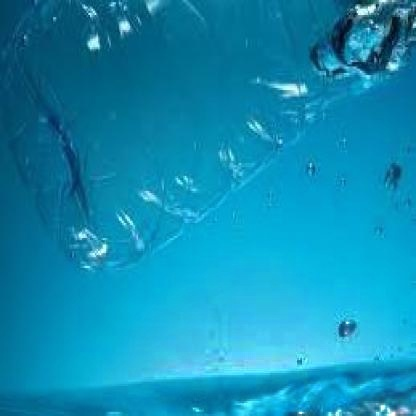pbottle: (1, 2, 416, 278)
